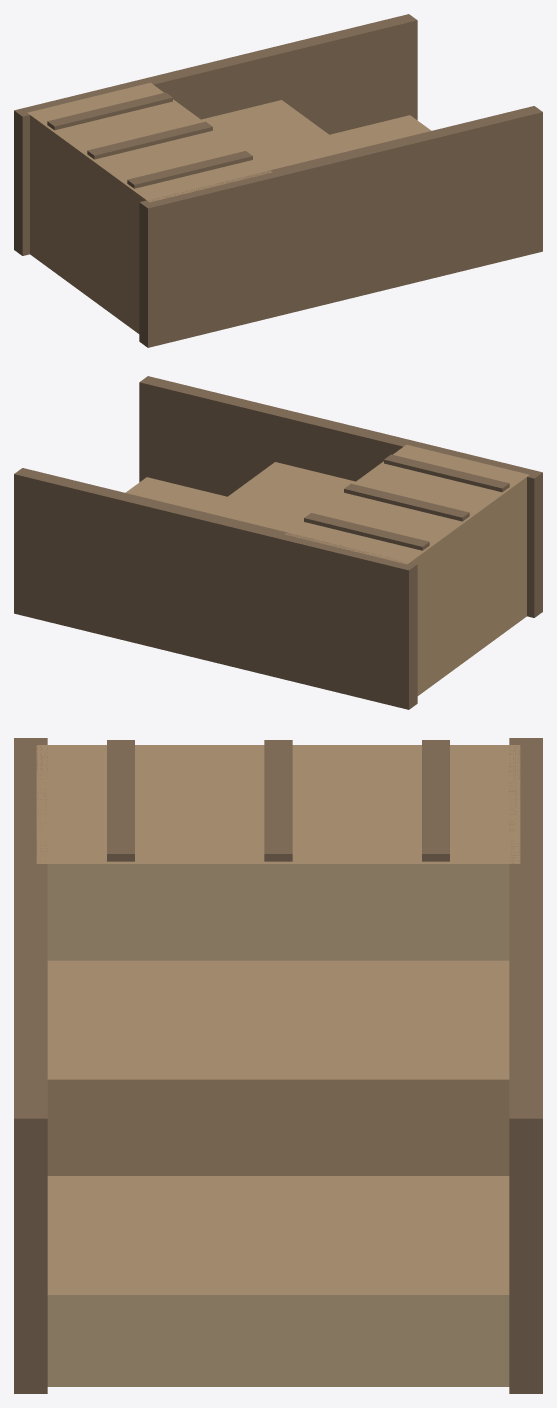
File: mounting_block.glb
The picture shows the model from 3 angles, top to bottom: view 1: azimuth 30°, elevation 25°; view 2: azimuth 150°, elevation 25°; view 3: azimuth 270°, elevation 25°; orthographic projection. The views are drawn at different scales.
Visible parts, largest first — view 1: mounting_block; view 2: mounting_block; view 3: mounting_block.
Part boxes in pixels (bbox=[...]): mounting_block: bbox=[14, 14, 542, 347]; mounting_block: bbox=[14, 376, 542, 709]; mounting_block: bbox=[14, 738, 542, 1393].
Size of the model in its own units: 1.6 by 0.555 by 0.94.
